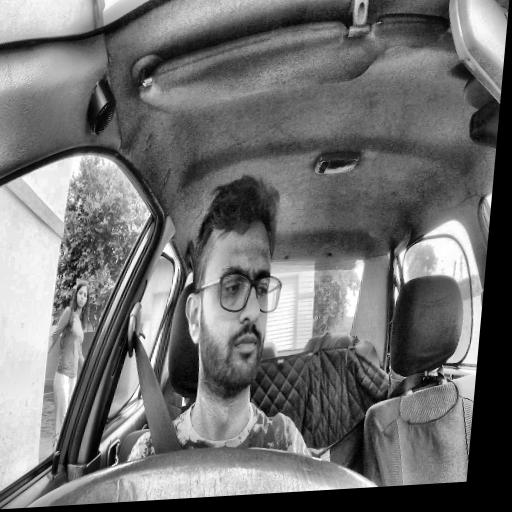awake: (176, 171, 293, 404)
